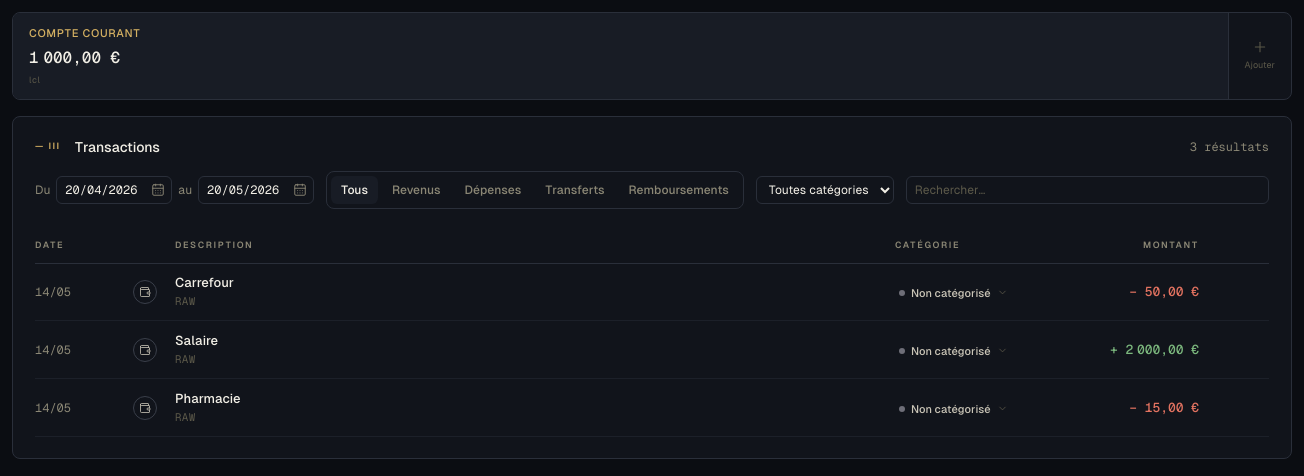
it: TransactionsPage › filters by type (revenus shows only positive amounts)
Expected: the text "Carrefour" is shown, [175,274,234,290]
Click the button "Revenus". click: (416, 190)
box: [382,176,450,204]
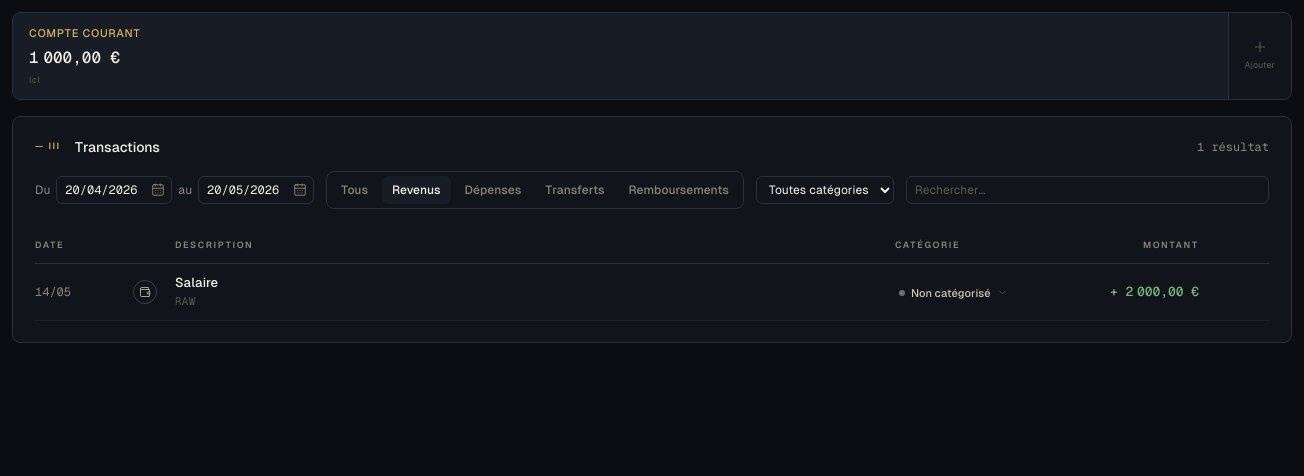
Expected: the text "Salaire" is shown, [175,274,218,290]
Result: the text "Carrefour" is gone
